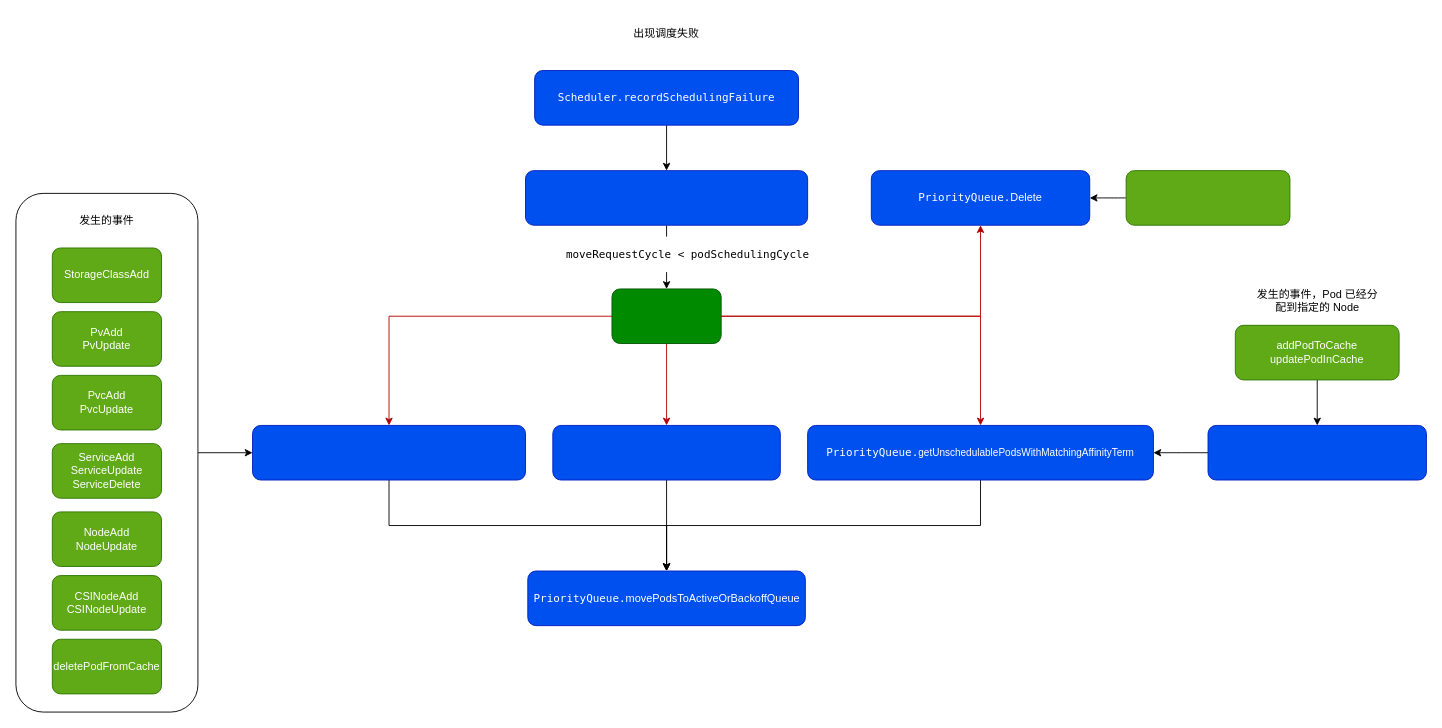
This 1442x728 diagram has some shape labels left out. Here are the shapes that lost their labels. From the top down, the box of each, then its label:
(525, 170, 808, 225): PriorityQueue. AddUnschedulableIfNotPresent
(1125, 170, 1290, 225): deletePodFromSchedulingQueue
(611, 288, 721, 344): unschedulableQ
(252, 425, 526, 480): PriorityQueue. MoveAllToActiveOrBackoffQueue
(552, 425, 780, 480): flushUnschedulableQLeftover/30s
(1207, 425, 1426, 480): PriorityQueue. AssignedPodAdded PriorityQueue. AssignedPodUpdated
